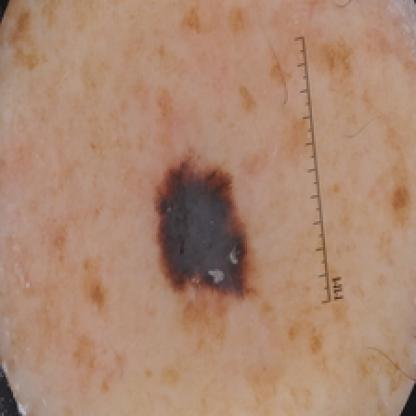Skin_Cancer-Malignant: (154, 154, 258, 300)
